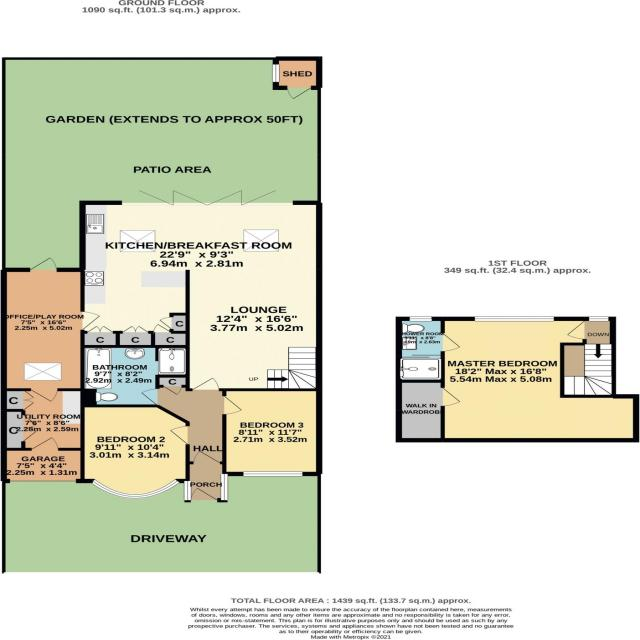DOOR: (79, 310, 100, 331), (441, 386, 461, 407), (28, 257, 58, 271), (29, 389, 60, 402), (441, 333, 459, 355), (222, 395, 241, 415), (191, 377, 220, 390), (568, 320, 586, 340), (169, 426, 188, 444), (30, 436, 58, 448), (193, 451, 220, 462), (142, 388, 157, 405), (165, 386, 182, 394)
FOLDING DOOR: (118, 186, 295, 205)
ROOM: (79, 201, 323, 391), (395, 316, 640, 445), (1, 258, 85, 402), (80, 405, 190, 499), (219, 388, 321, 476)
WINDOW: (91, 479, 180, 499), (243, 469, 305, 477), (474, 316, 556, 321), (409, 315, 432, 321), (587, 316, 609, 321)
